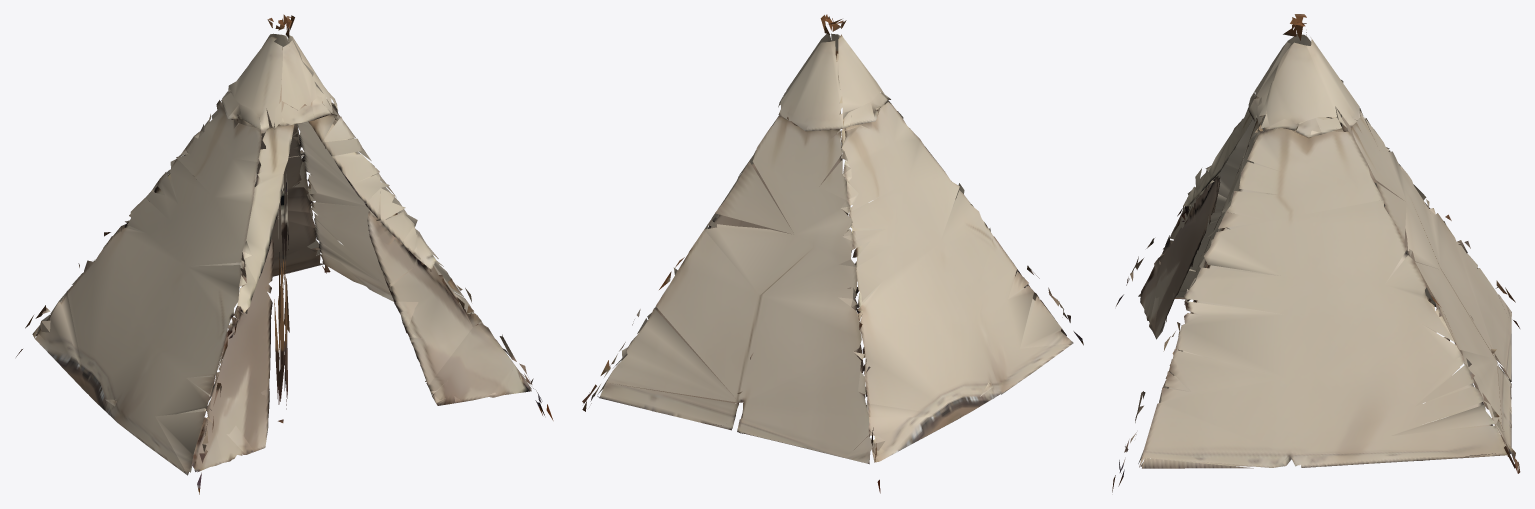
Rendered from Landing_Tent.glb.
The picture shows the model from 3 angles, left to right: view 1: azimuth 30°, elevation 25°; view 2: azimuth 150°, elevation 25°; view 3: azimuth 270°, elevation 25°; orthographic projection. The views are drawn at different scales.
Visible parts, largest first — view 1: Landing_Tent; view 2: Landing_Tent; view 3: Landing_Tent.
Part boxes in pixels (left/top/right/bottom): Landing_Tent: left=16, top=14, right=553, bottom=494; Landing_Tent: left=582, top=14, right=1083, bottom=493; Landing_Tent: left=1112, top=14, right=1520, bottom=492.
Size of the model in its own units: 1.56 by 1.7 by 1.53.
1 material, 1 textured.
